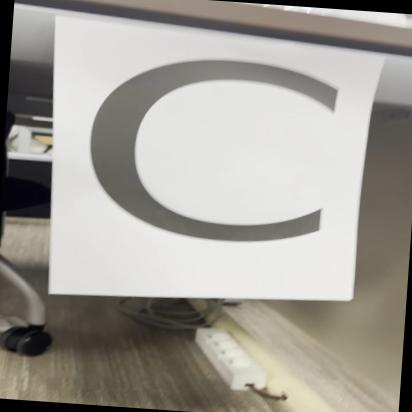seat: (45, 14, 371, 300)
